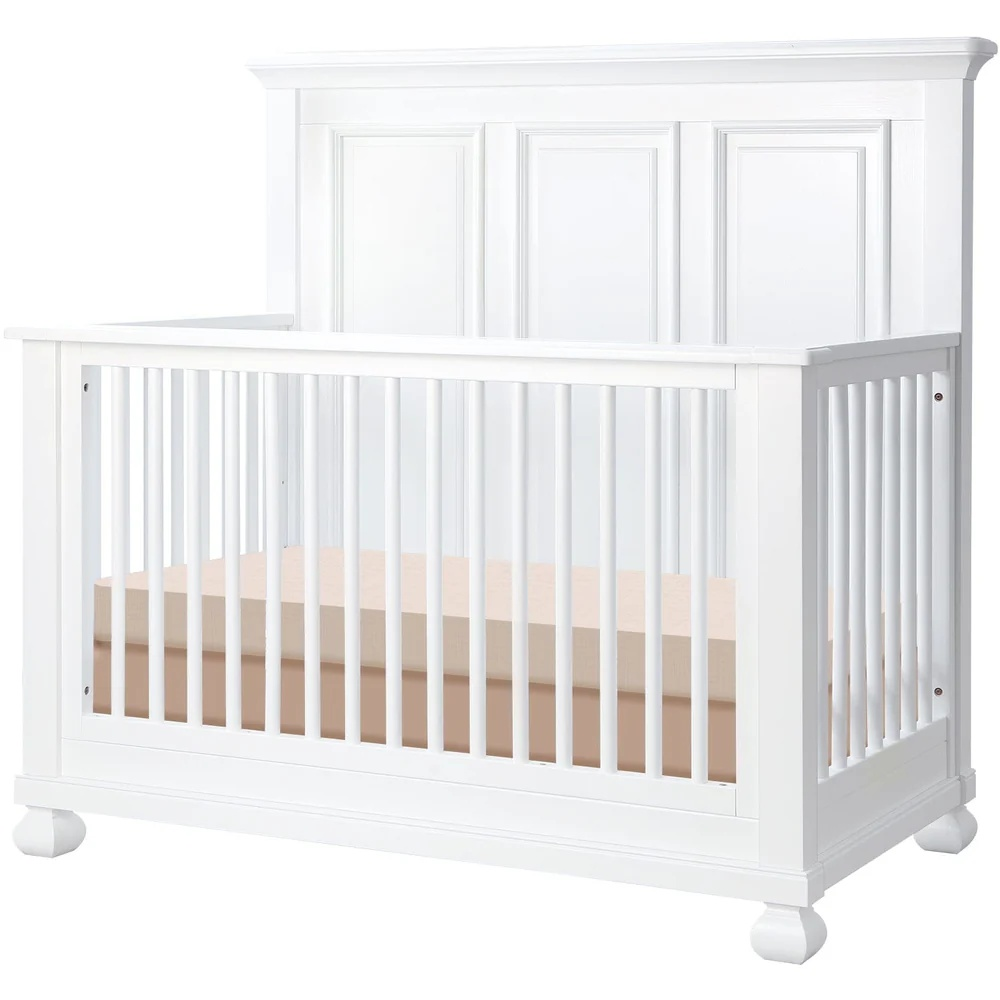crib: (8, 40, 995, 961)
